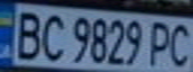2: (106, 16, 130, 66)
8: (87, 15, 109, 65)
9: (66, 12, 93, 63), (124, 17, 148, 66)
B: (9, 7, 45, 61)
C: (36, 10, 69, 62), (166, 19, 193, 69)
P: (145, 18, 175, 68)
